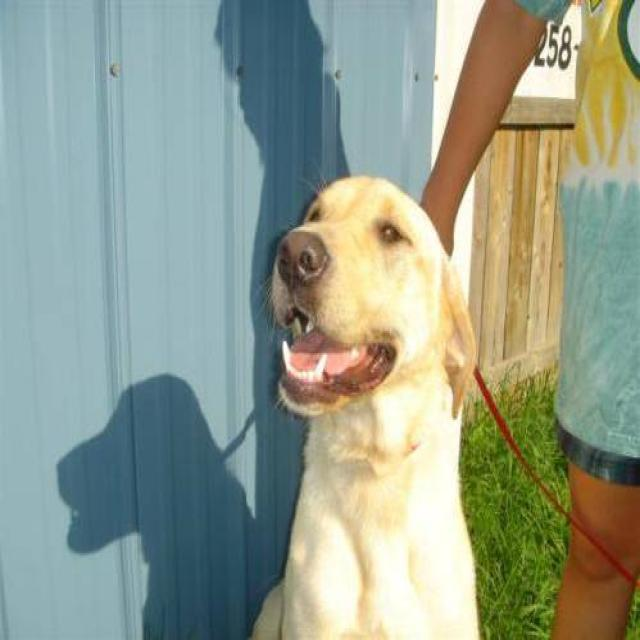dog: (245, 172, 482, 638)
